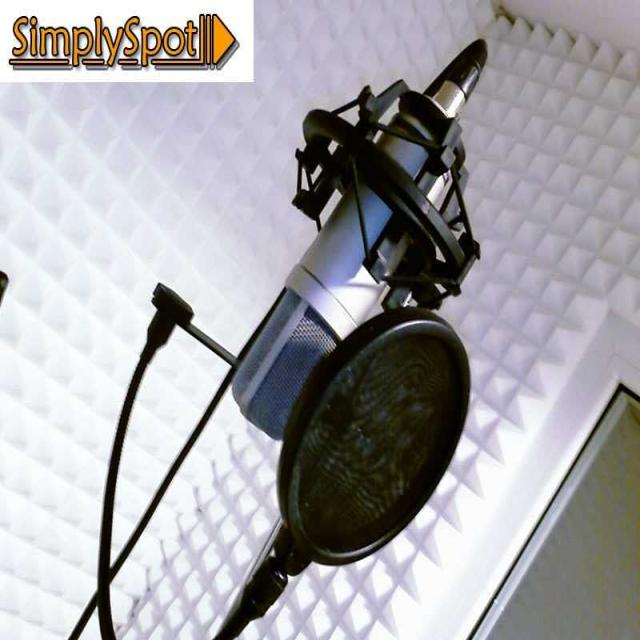microphone: (228, 74, 461, 450)
